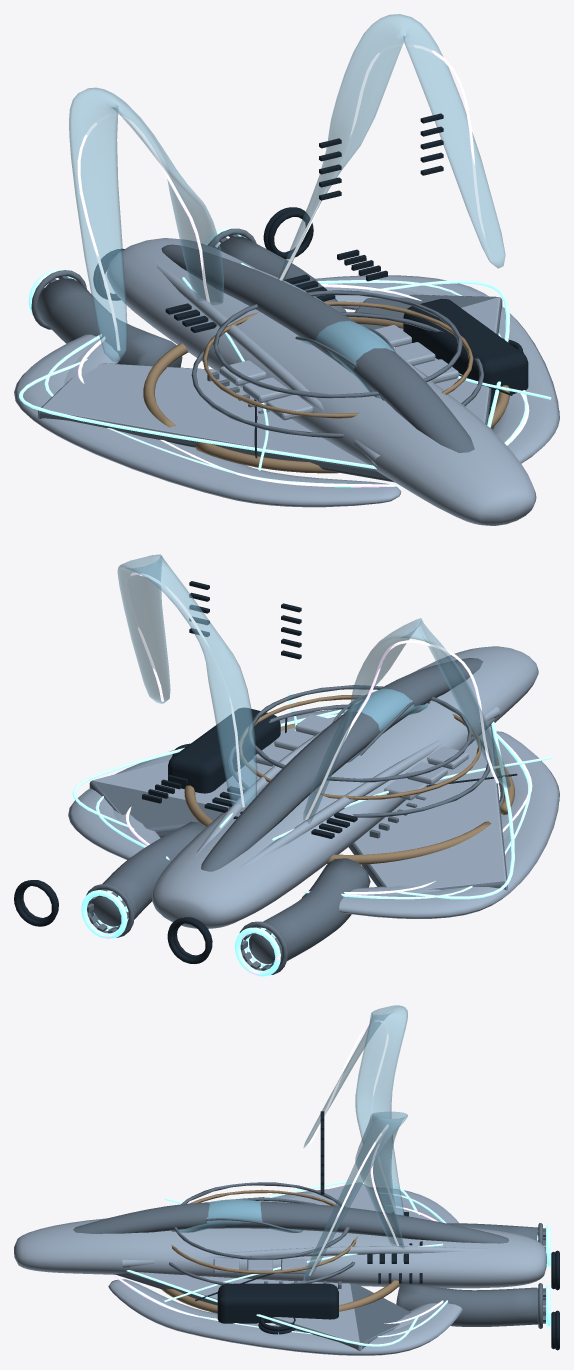
The model's file is tem-refined-fleet-v21-lod.glb.
3 renders of one model, top to bottom at view 1: azimuth 30°, elevation 25°; view 2: azimuth 150°, elevation 25°; view 3: azimuth 270°, elevation 25°, orthographic. The views are drawn at different scales.
Parts seen in each view (by area): view 1: SHIP_0_V21_FLEET_PEARL — multilayer lunar ceramic.001, SHIP_2_V21_FLEET_GLASS — sapphire pressure canopy.001, SHIP_0_V21_FLEET_TITANIUM — restrained cold machining.001, SHIP_3_V21_FLEET_PEARL — multilayer lunar ceramic.001, SHIP_3_V21_FLEET_PRESSURE — recessed engine chamber.001, SHIP_1_V21_FLEET_PEARL — multilayer lunar ceramic.001, SHIP_1_V21_FLEET_CHAMPAGNE — precision fittings.001, SHIP_0_V21_FLEET_EMISSION_0.001, SHIP_1_V21_FLEET_TITANIUM — restrained cold machining.001, SHIP_3_V21_FLEET_TITANIUM — restrained cold machining.001, SHIP_2_V21_FLEET_EMISSION_2.001, SHIP_0_V21_FLEET_PRESSURE — recessed engine chamber.001 (+4 smaller); view 2: SHIP_0_V21_FLEET_PEARL — multilayer lunar ceramic.001, SHIP_0_V21_FLEET_TITANIUM — restrained cold machining.001, SHIP_2_V21_FLEET_GLASS — sapphire pressure canopy.001, SHIP_3_V21_FLEET_PEARL — multilayer lunar ceramic.001, SHIP_3_V21_FLEET_PRESSURE — recessed engine chamber.001, SHIP_0_V21_FLEET_EMISSION_0.001, SHIP_1_V21_FLEET_PEARL — multilayer lunar ceramic.001, SHIP_1_V21_FLEET_CHAMPAGNE — precision fittings.001, SHIP_3_V21_FLEET_TITANIUM — restrained cold machining.001, SHIP_1_V21_FLEET_TITANIUM — restrained cold machining.001, SHIP_2_V21_FLEET_EMISSION_2.001, SHIP_0_V21_FLEET_PRESSURE — recessed engine chamber.001 (+3 smaller); view 3: SHIP_0_V21_FLEET_PEARL — multilayer lunar ceramic.001, SHIP_0_V21_FLEET_TITANIUM — restrained cold machining.001, SHIP_3_V21_FLEET_PEARL — multilayer lunar ceramic.001, SHIP_2_V21_FLEET_GLASS — sapphire pressure canopy.001, SHIP_3_V21_FLEET_PRESSURE — recessed engine chamber.001, SHIP_3_V21_FLEET_TITANIUM — restrained cold machining.001, SHIP_1_V21_FLEET_PEARL — multilayer lunar ceramic.001, SHIP_0_V21_FLEET_EMISSION_0.001, SHIP_1_V21_FLEET_CHAMPAGNE — precision fittings.001, SHIP_1_V21_FLEET_TITANIUM — restrained cold machining.001, SHIP_2_V21_FLEET_EMISSION_2.001, SHIP_0_V21_FLEET_GLASS — sapphire pressure canopy.001 (+3 smaller).
Boxes of the visible parts, x1=… form: SHIP_0_V21_FLEET_PEARL — multilayer lunar ceramic.001: x1=14, y1=238, x2=558, y2=525; SHIP_2_V21_FLEET_GLASS — sapphire pressure canopy.001: x1=69, y1=14, x2=505, y2=391; SHIP_0_V21_FLEET_TITANIUM — restrained cold machining.001: x1=31, y1=228, x2=474, y2=452; SHIP_3_V21_FLEET_PEARL — multilayer lunar ceramic.001: x1=66, y1=238, x2=559, y2=525; SHIP_3_V21_FLEET_PRESSURE — recessed engine chamber.001: x1=93, y1=207, x2=528, y2=414; SHIP_1_V21_FLEET_PEARL — multilayer lunar ceramic.001: x1=64, y1=238, x2=559, y2=507; SHIP_1_V21_FLEET_CHAMPAGNE — precision fittings.001: x1=143, y1=301, x2=509, y2=473; SHIP_0_V21_FLEET_EMISSION_0.001: x1=19, y1=227, x2=551, y2=486; SHIP_1_V21_FLEET_TITANIUM — restrained cold machining.001: x1=191, y1=290, x2=484, y2=438; SHIP_3_V21_FLEET_TITANIUM — restrained cold machining.001: x1=38, y1=294, x2=502, y2=482; SHIP_2_V21_FLEET_EMISSION_2.001: x1=77, y1=43, x2=491, y2=350; SHIP_0_V21_FLEET_PRESSURE — recessed engine chamber.001: x1=165, y1=113, x2=524, y2=458; SHIP_0_V21_FLEET_PEARL — multilayer lunar ceramic.001: x1=68, y1=646, x2=558, y2=928; SHIP_0_V21_FLEET_TITANIUM — restrained cold machining.001: x1=86, y1=658, x2=483, y2=974; SHIP_2_V21_FLEET_GLASS — sapphire pressure canopy.001: x1=117, y1=554, x2=510, y2=823; SHIP_3_V21_FLEET_PEARL — multilayer lunar ceramic.001: x1=116, y1=646, x2=559, y2=928; SHIP_3_V21_FLEET_PRESSURE — recessed engine chamber.001: x1=14, y1=708, x2=280, y2=963; SHIP_0_V21_FLEET_EMISSION_0.001: x1=72, y1=692, x2=552, y2=976; SHIP_1_V21_FLEET_PEARL — multilayer lunar ceramic.001: x1=113, y1=692, x2=559, y2=928; SHIP_1_V21_FLEET_CHAMPAGNE — precision fittings.001: x1=184, y1=695, x2=514, y2=864; SHIP_3_V21_FLEET_TITANIUM — restrained cold machining.001: x1=90, y1=674, x2=507, y2=916; SHIP_1_V21_FLEET_TITANIUM — restrained cold machining.001: x1=228, y1=685, x2=491, y2=817; SHIP_2_V21_FLEET_EMISSION_2.001: x1=125, y1=572, x2=498, y2=820; SHIP_0_V21_FLEET_PRESSURE — recessed engine chamber.001: x1=171, y1=581, x2=517, y2=948; SHIP_0_V21_FLEET_PEARL — multilayer lunar ceramic.001: x1=27, y1=1182, x2=546, y2=1355; SHIP_0_V21_FLEET_TITANIUM — restrained cold machining.001: x1=73, y1=1201, x2=545, y2=1328; SHIP_3_V21_FLEET_PEARL — multilayer lunar ceramic.001: x1=14, y1=1206, x2=546, y2=1332; SHIP_2_V21_FLEET_GLASS — sapphire pressure canopy.001: x1=183, y1=1005, x2=407, y2=1283; SHIP_3_V21_FLEET_PRESSURE — recessed engine chamber.001: x1=217, y1=1241, x2=559, y2=1350; SHIP_3_V21_FLEET_TITANIUM — restrained cold machining.001: x1=115, y1=1183, x2=411, y2=1350; SHIP_1_V21_FLEET_PEARL — multilayer lunar ceramic.001: x1=71, y1=1202, x2=542, y2=1333; SHIP_0_V21_FLEET_EMISSION_0.001: x1=114, y1=1179, x2=550, y2=1346; SHIP_1_V21_FLEET_CHAMPAGNE — precision fittings.001: x1=161, y1=1189, x2=399, y2=1313; SHIP_1_V21_FLEET_TITANIUM — restrained cold machining.001: x1=169, y1=1182, x2=355, y2=1285; SHIP_2_V21_FLEET_EMISSION_2.001: x1=308, y1=1020, x2=399, y2=1275; SHIP_0_V21_FLEET_GLASS — sapphire pressure canopy.001: x1=179, y1=1199, x2=302, y2=1232.
Bounding box in the file's own units: 4.55 × 3.02 × 6.31.
